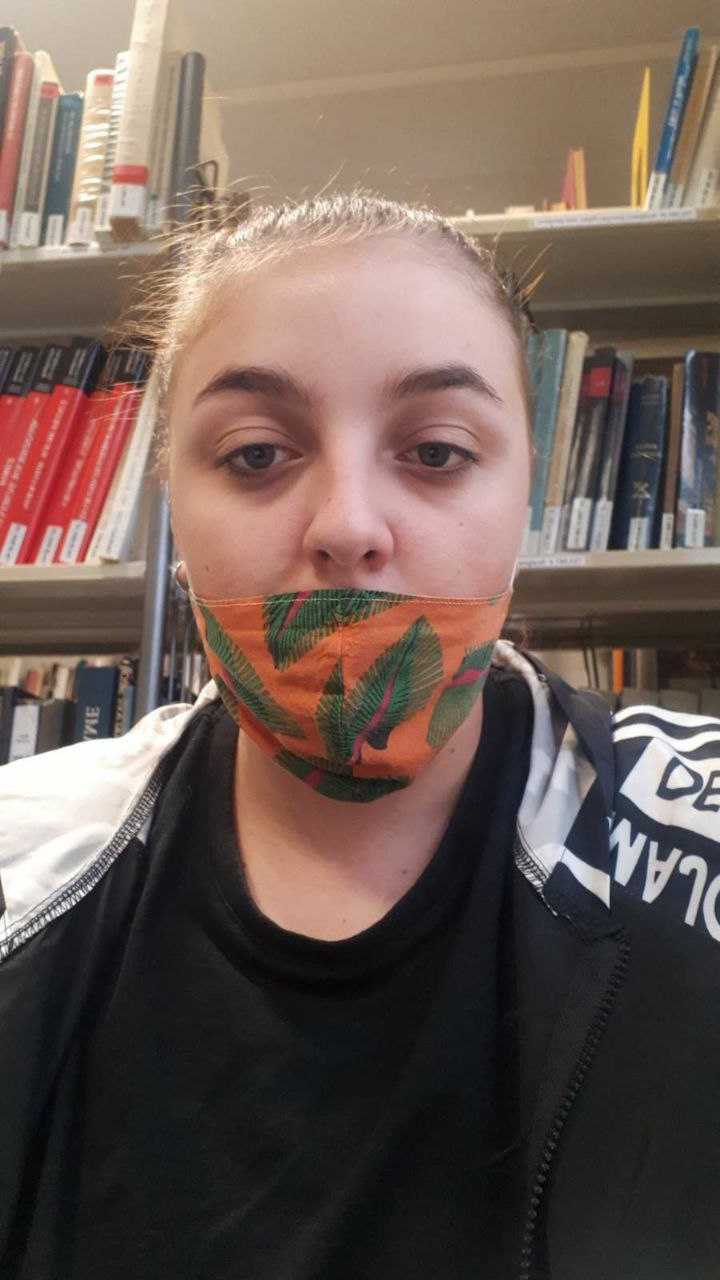with_incorrect_mask: (152, 204, 568, 811)
